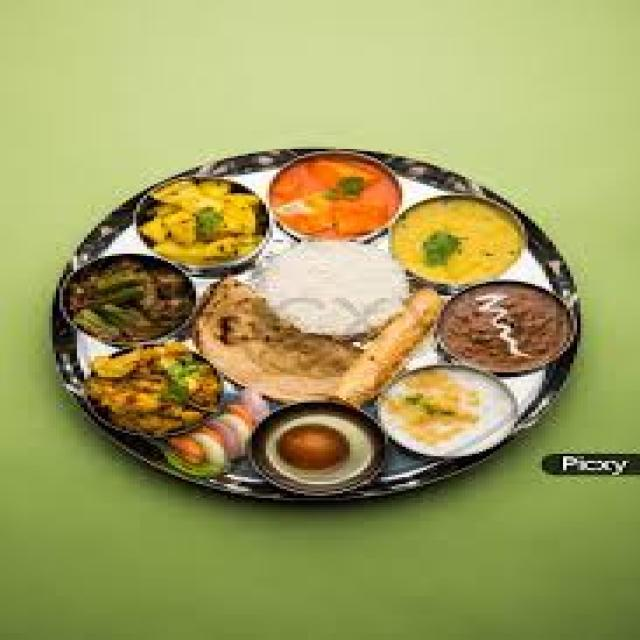curd: (377, 366, 526, 451)
dal: (381, 192, 541, 286)
raita: (377, 364, 526, 452)
rice: (256, 237, 402, 333)
roti: (194, 279, 430, 408)
sweet: (245, 402, 380, 485)
veg-fry: (122, 169, 269, 272), (53, 249, 198, 350)
